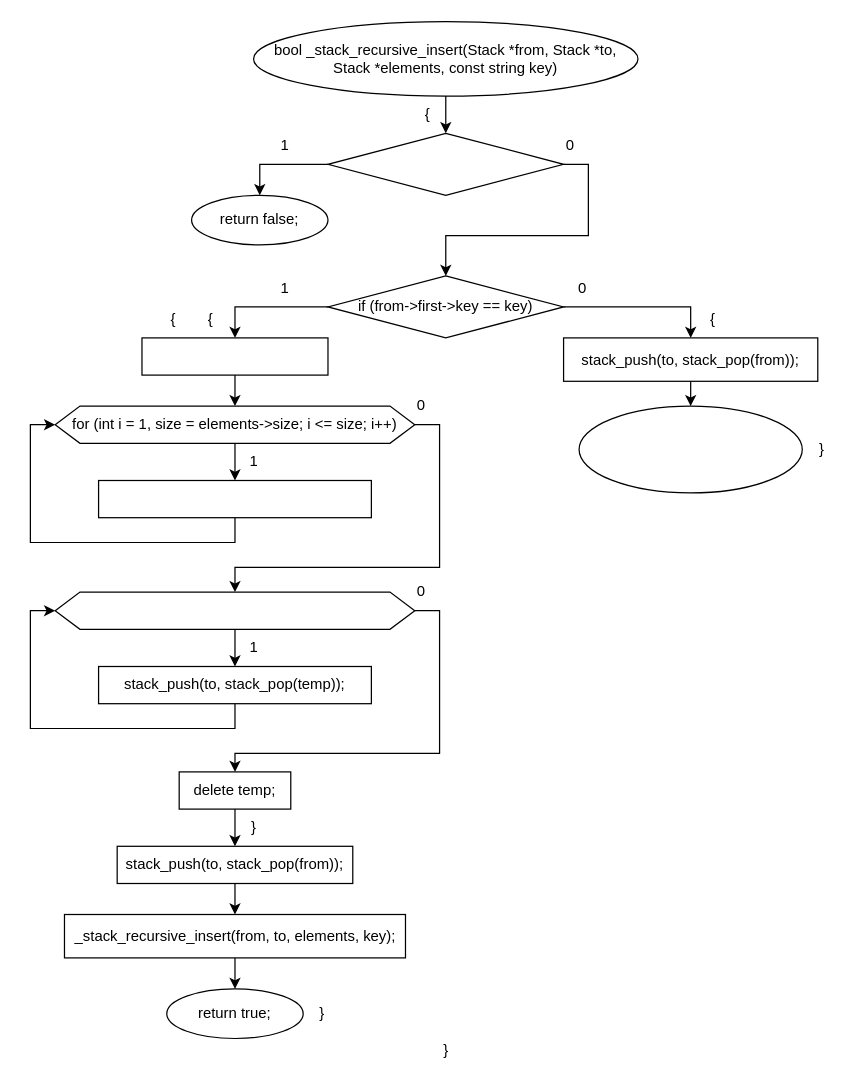
Image size: 861x1091. Some labels were removed from this diagram. The shapes that lost their labels are listed below. From the top down, each one's centre as x and y in pixels, then its label:
(445,163): if (from->first == nullptr)
(234,356): Stack *temp = new Stack();
(690,449): return _stack_recursive_insert(from, to, elements, key);
(234,498): stack_push(temp, stack_pop(elements));
(234,610): for (int i = 1, size = temp->size; i <= size; i++)
